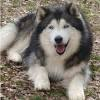Bulldog: (6, 2, 97, 96)
